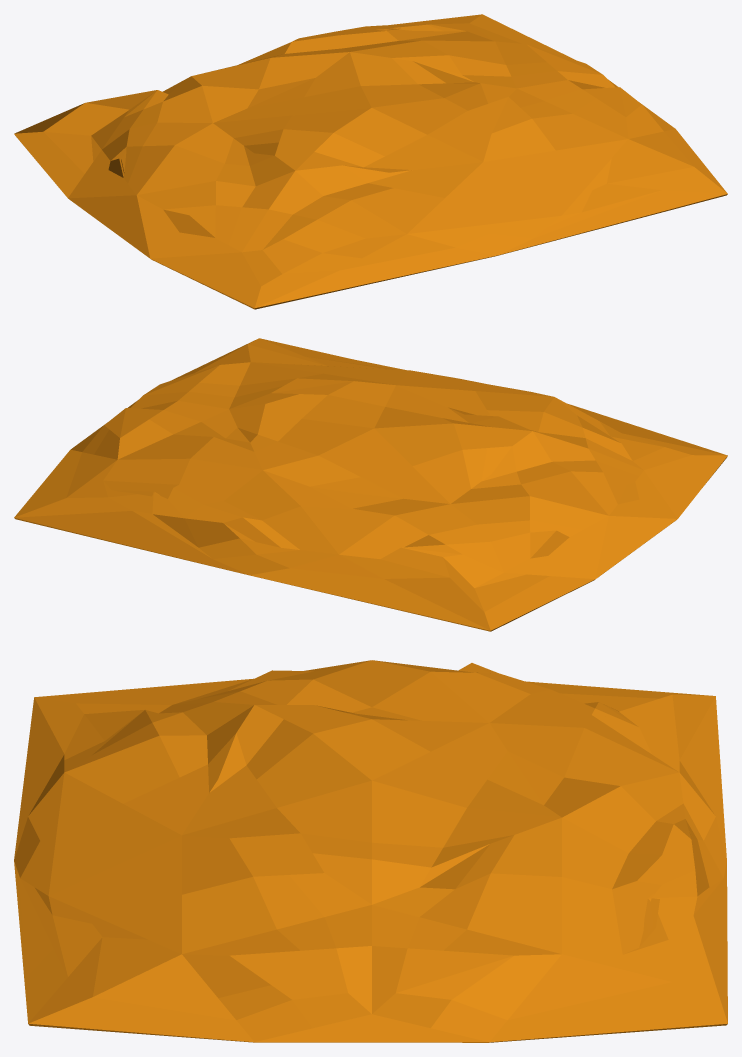
The model's file is platanos_baño_maria.fbx.
The picture shows the model from 3 angles, top to bottom: view 1: azimuth 30°, elevation 25°; view 2: azimuth 150°, elevation 25°; view 3: azimuth 270°, elevation 25°; orthographic projection. The views are drawn at different scales.
Visible parts, largest first — view 1: platanos; view 2: platanos; view 3: platanos.
Boxes of the visible parts, box(x1,y1,x2,y2) form: platanos: box(14, 14, 727, 309); platanos: box(14, 338, 727, 631); platanos: box(14, 660, 727, 1042).
Bounding box in the file's own units: 167 × 18.92 × 137.
